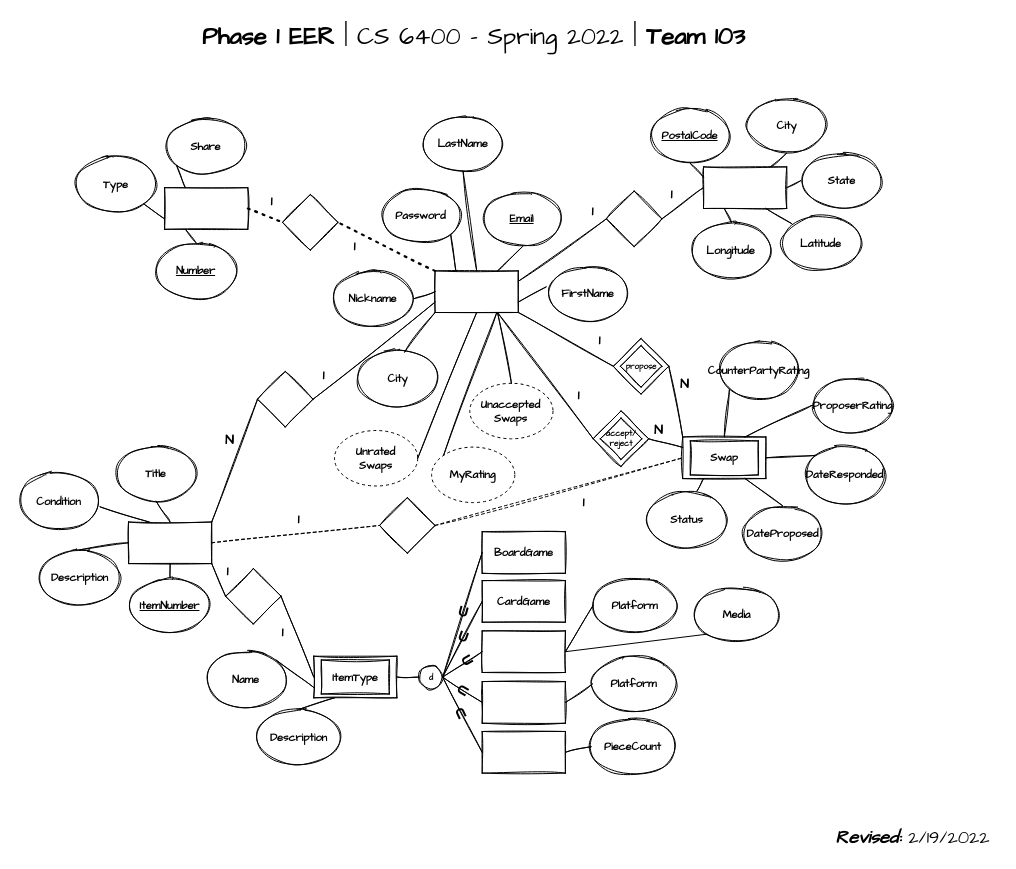
This 1016x869 diagram has some shape labels left out. The centre of each missing label's shape, as x and y in pixels:
"Address" goes at point 744,187.
"ComputerGame" goes at point 523,702.
"Item" goes at point 170,542.
"JigsawPuzzle" goes at point 523,751.
"Phone" goes at point 206,208.
"User" goes at point 476,291.
"VideoGame" goes at point 523,651.
